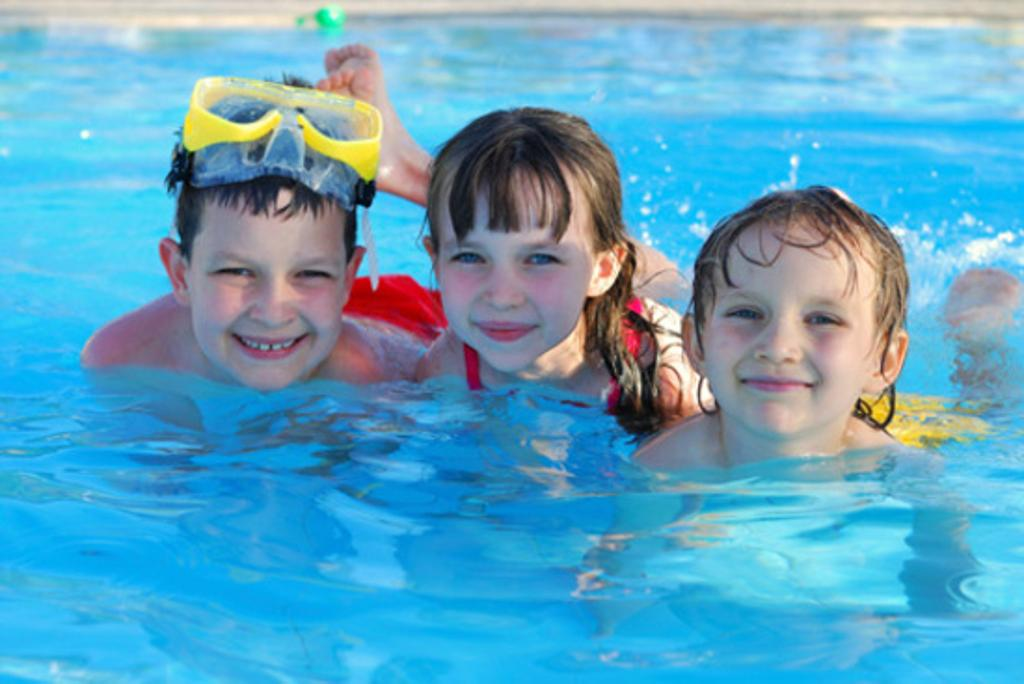face: (704, 246, 866, 434), (200, 194, 348, 394), (436, 192, 592, 370)
